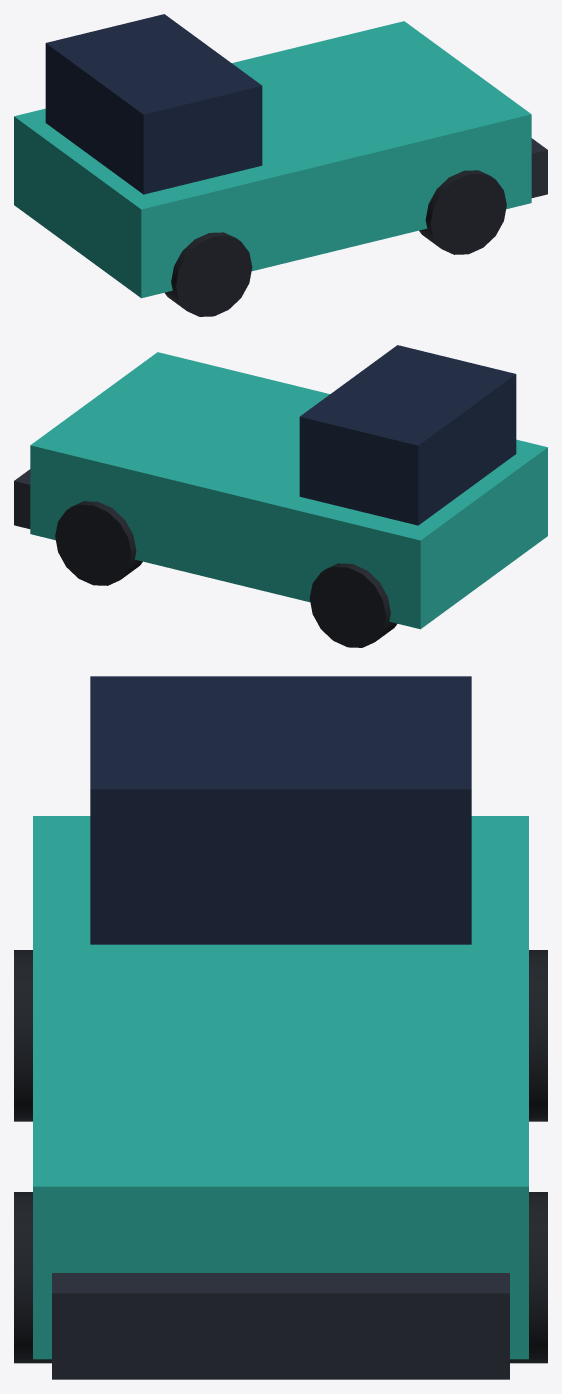
Rendered from tug.glb.
3 renders of one model, top to bottom at view 1: azimuth 30°, elevation 25°; view 2: azimuth 150°, elevation 25°; view 3: azimuth 270°, elevation 25°, orthographic. The views are drawn at different scales.
Parts seen in each view (by area): view 1: Body, Cab, Wheel (×2), Bumper; view 2: Body, Cab, Wheel (×2), Bumper; view 3: Body, Cab, Bumper, Wheel (×4).
Boxes of the visible parts, bbox=[...] form: Body: bbox=[14, 21, 531, 298]; Cab: bbox=[45, 14, 262, 194]; Wheel (×2): bbox=[164, 170, 506, 316]; Bumper: bbox=[531, 138, 547, 197]; Body: bbox=[30, 352, 547, 629]; Cab: bbox=[299, 345, 516, 525]; Wheel (×2): bbox=[55, 501, 397, 647]; Bumper: bbox=[14, 469, 30, 528]; Body: bbox=[33, 816, 528, 1359]; Cab: bbox=[90, 676, 471, 944]; Bumper: bbox=[52, 1273, 509, 1379]; Wheel (×4): bbox=[14, 950, 547, 1363].
Bounding box in the file's own units: 4.85 × 2.25 × 2.8.
